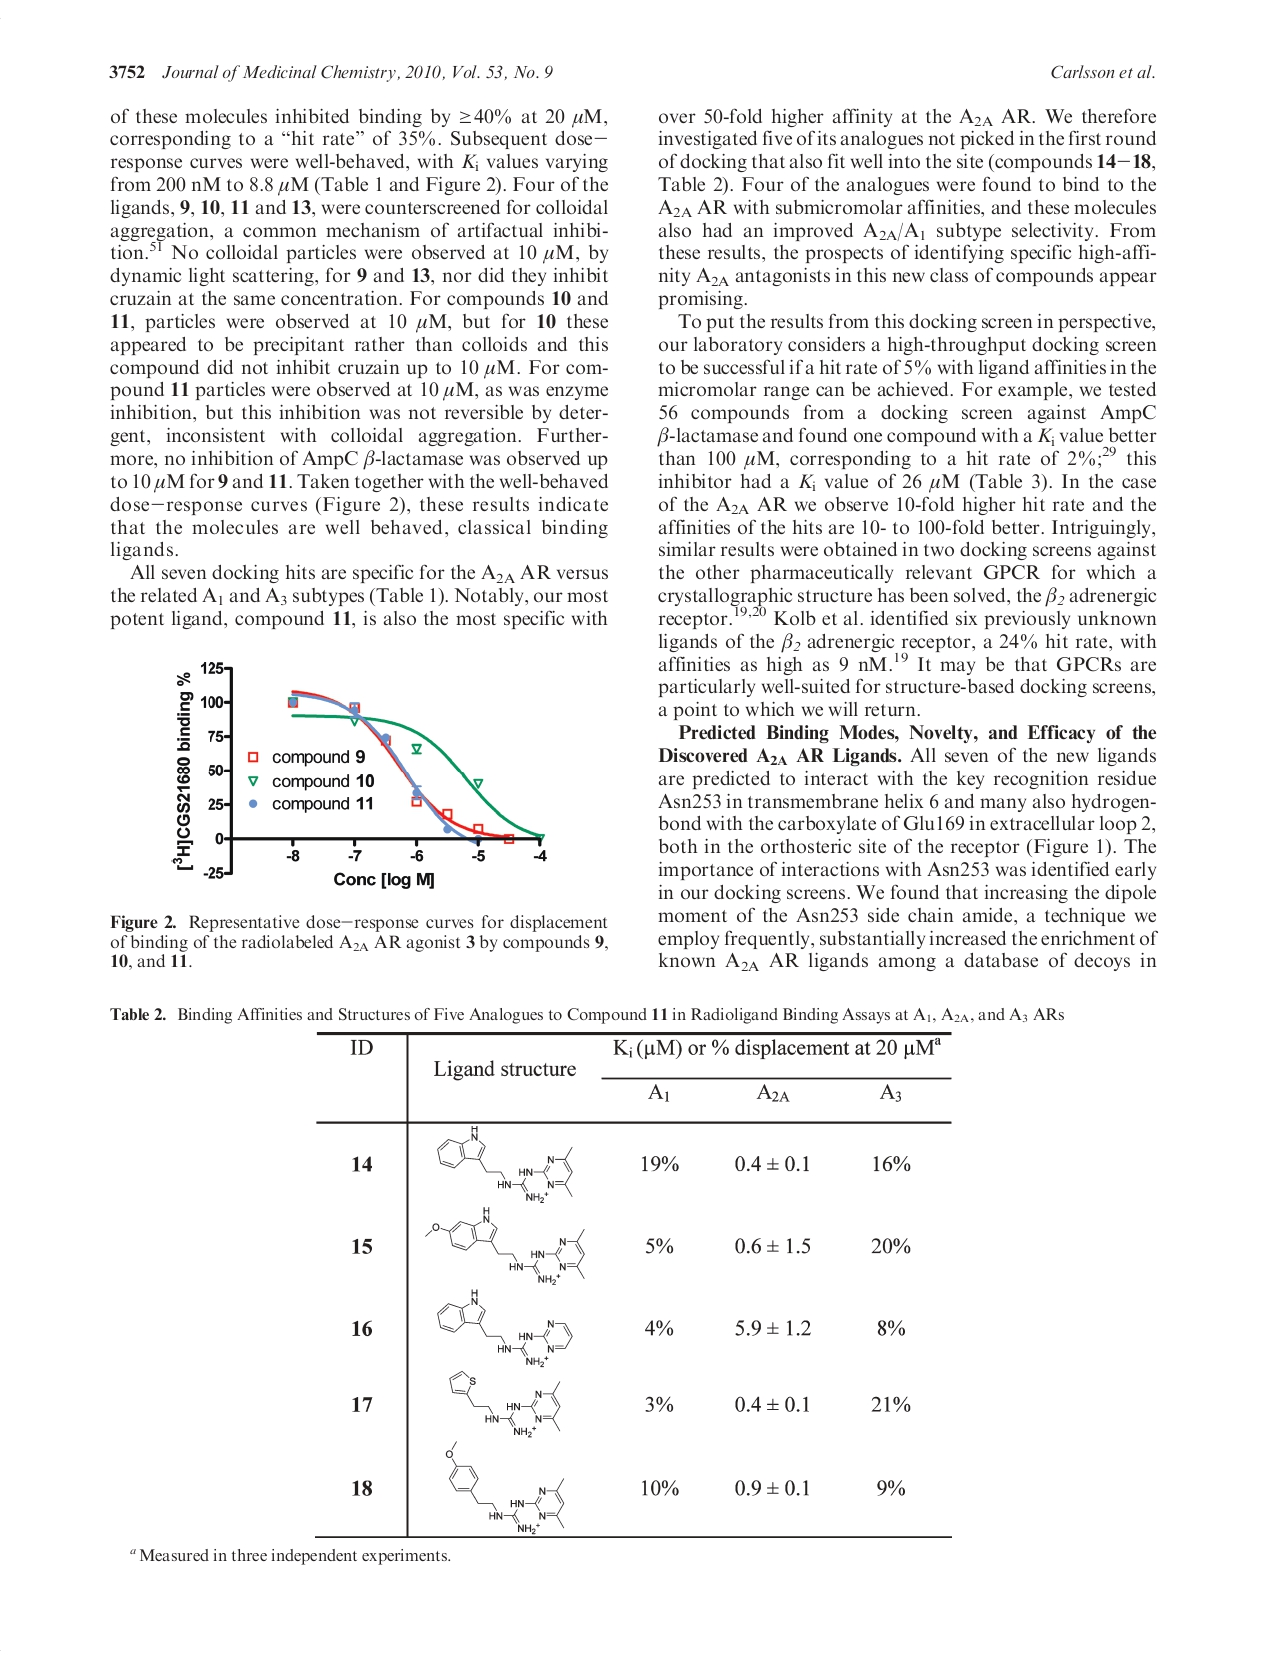exist_molecular: (424, 1205, 590, 1285), (431, 1438, 569, 1533), (434, 1285, 574, 1370), (434, 1125, 574, 1206), (434, 1371, 564, 1438)
